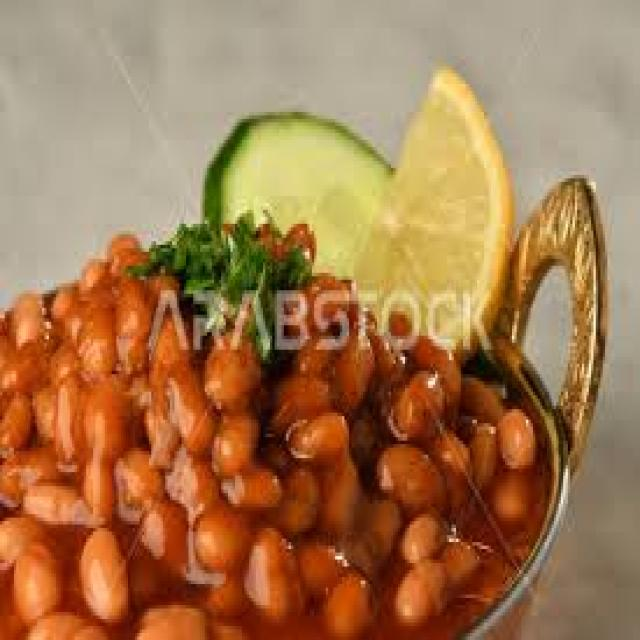fool: (3, 232, 567, 640)
